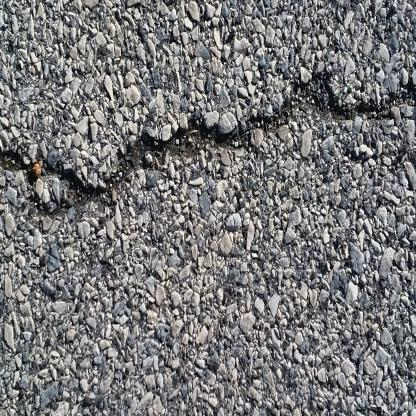Cracks: (0, 74, 416, 218)
